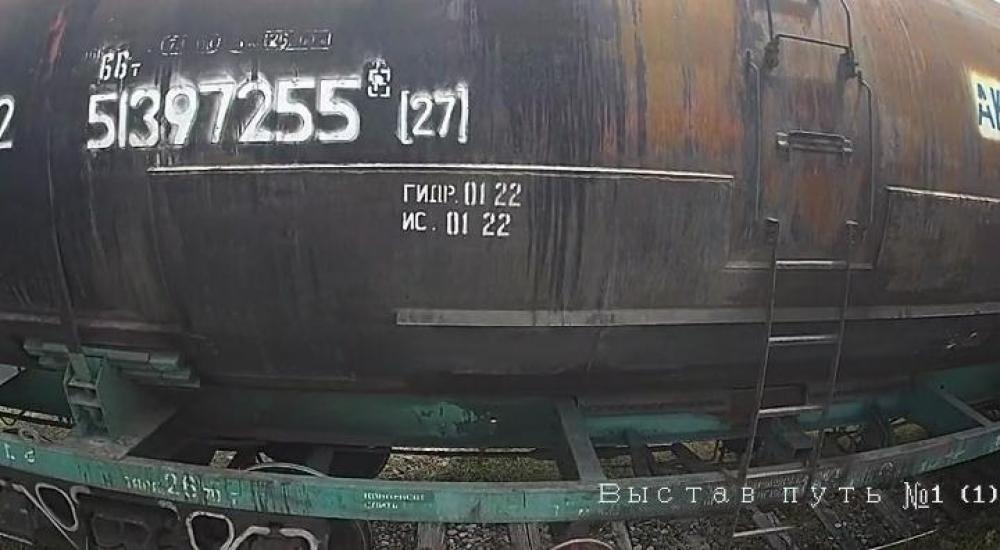Wagon-number: (75, 72, 370, 153)
